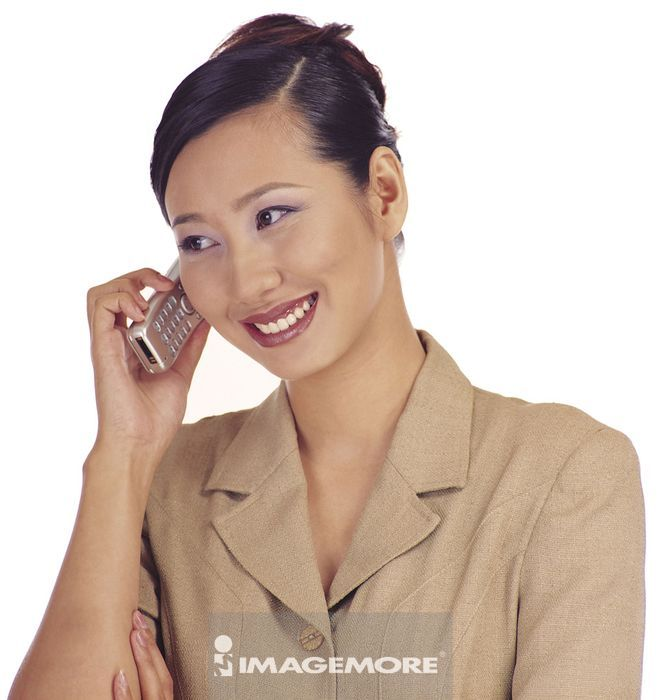talk: (86, 176, 351, 494)
